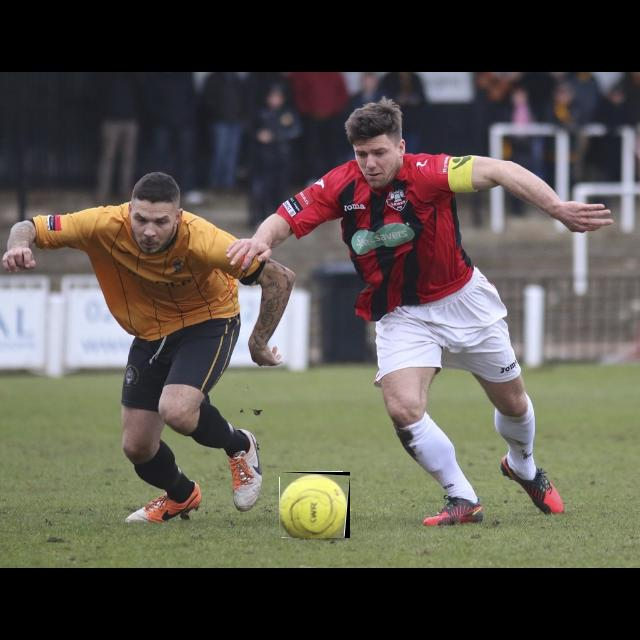Football: (280, 472, 350, 538)
